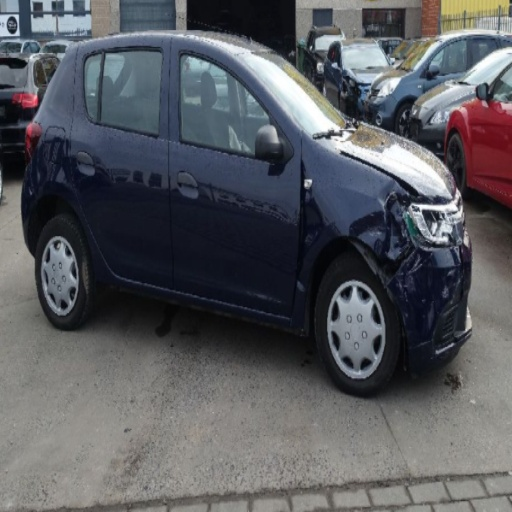dent: (350, 182, 413, 288), (388, 249, 442, 343), (298, 164, 338, 284)
scratch: (242, 288, 283, 305), (378, 190, 397, 222), (397, 272, 410, 305), (386, 234, 401, 261), (407, 254, 422, 275), (401, 224, 410, 251), (402, 249, 416, 266), (441, 286, 450, 299), (401, 312, 409, 326), (369, 230, 382, 237), (298, 283, 304, 294), (421, 298, 427, 305)
